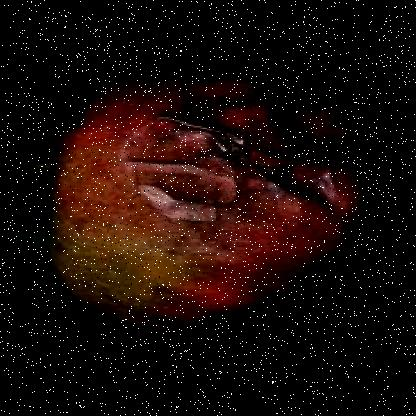damaged_apple: (52, 47, 382, 327)
